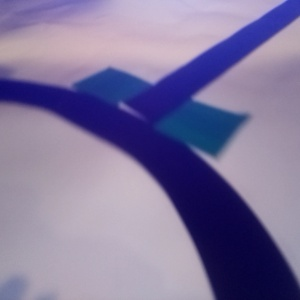bottom_left: (217, 18, 283, 52)
top_left: (115, 120, 217, 228)
